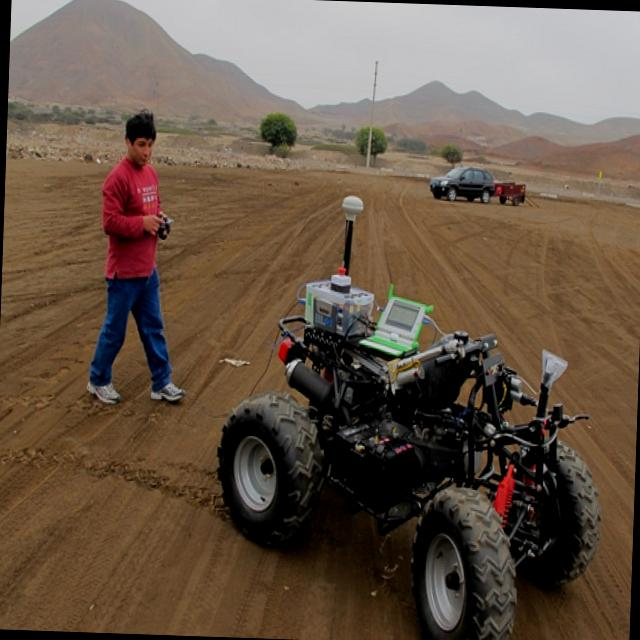Vehicle: (428, 164, 496, 203)
